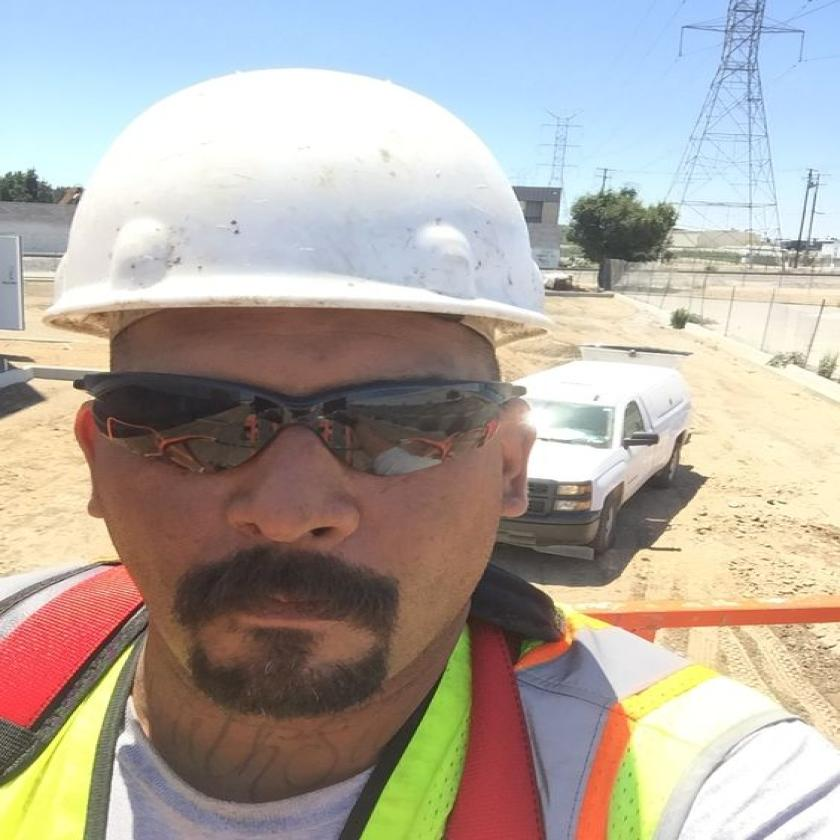Con_casco: (32, 65, 570, 732)
